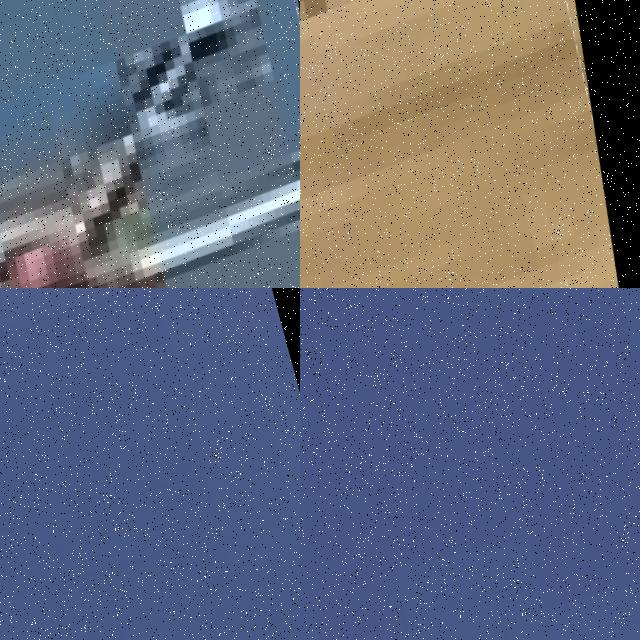drone: (300, 0, 640, 288), (0, 0, 300, 288)
